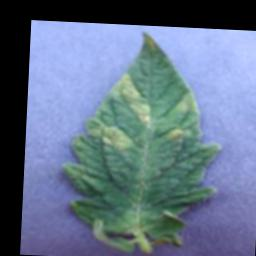Leaf_Mold: (106, 69, 153, 131), (83, 117, 135, 151), (172, 89, 201, 116), (163, 124, 192, 147)
